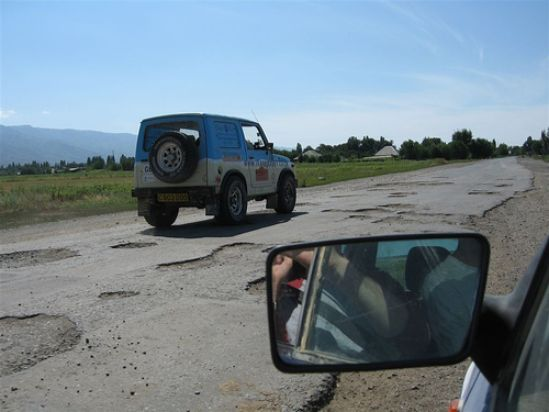pothole: (1, 306, 80, 376), (154, 238, 258, 276), (1, 242, 83, 268), (110, 239, 160, 249)
